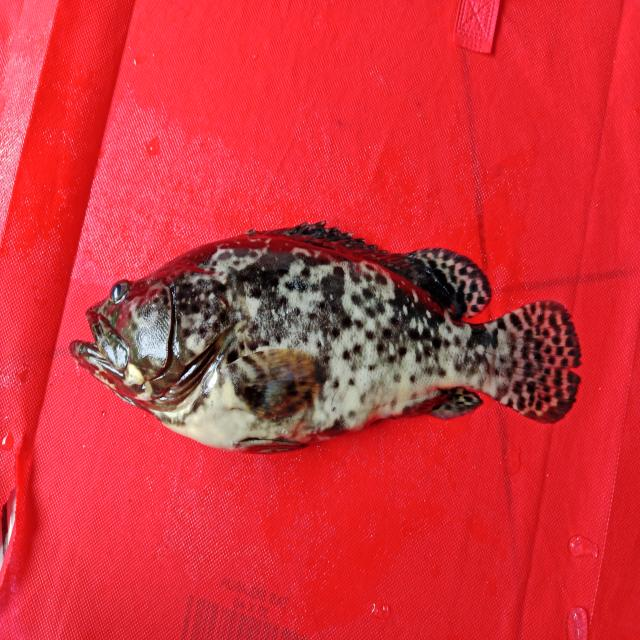ikan: (52, 192, 599, 468)
